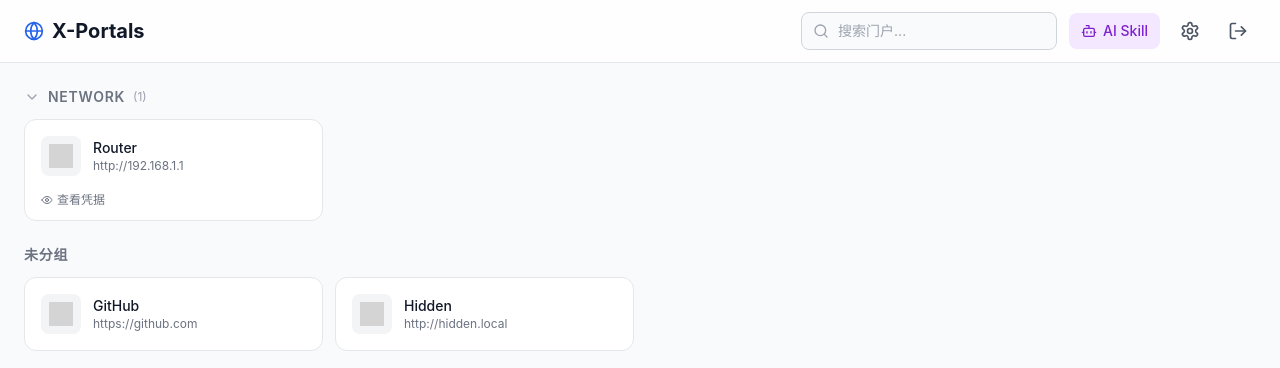
Test: Home page › toggles group collapse
The width and height of the screenshot is (1280, 368).
Expected: the heading "Router" is shown, [93,139,137,156]
Click the heading "Network" at (86, 97), box [48,87,125,107]
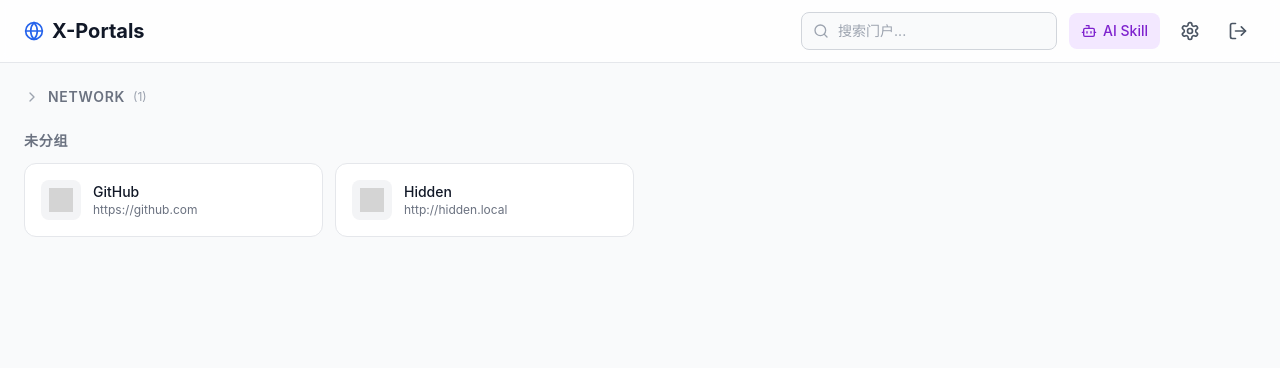
Result: the link "Router" is gone
Click the heading "Network" at (86, 97), box [48,87,125,107]
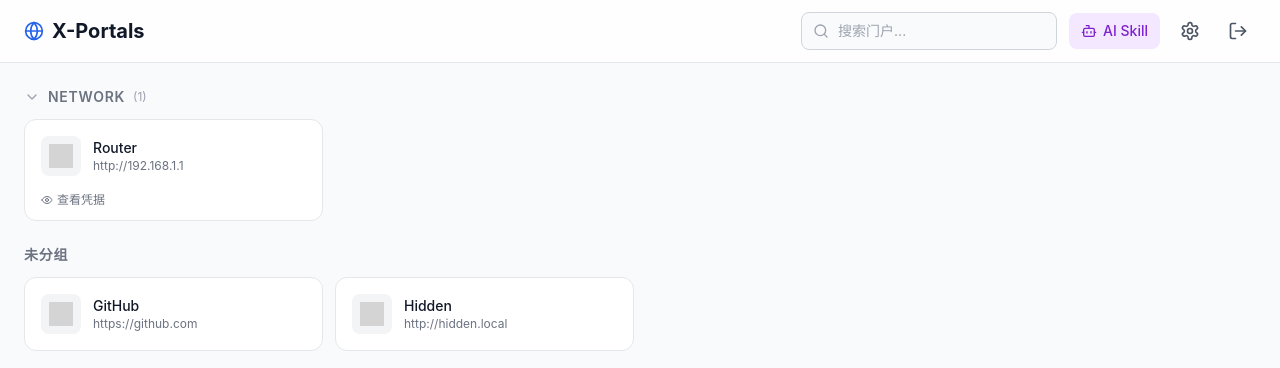
Result: the heading "Router" is shown at [93,139,137,156]
